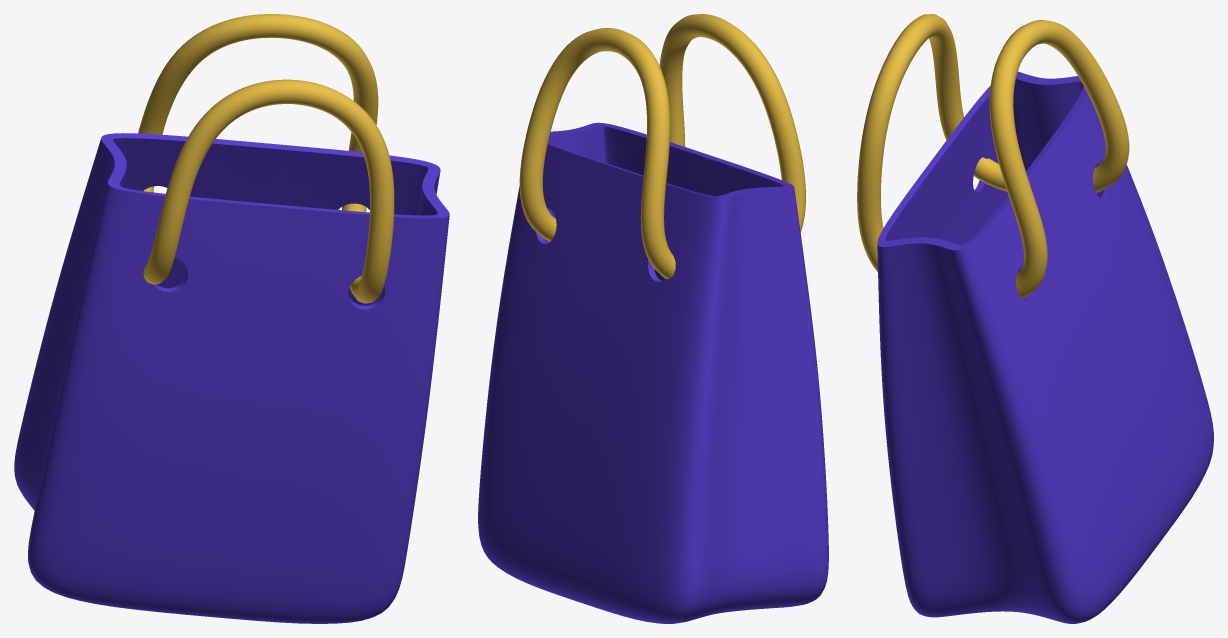
Rendered from carry-bag-3d-icon-158187028309.glb.
The picture shows the model from 3 angles, left to right: view 1: azimuth 30°, elevation 25°; view 2: azimuth 150°, elevation 25°; view 3: azimuth 270°, elevation 25°; orthographic projection. The views are drawn at different scales.
Visible parts, largest first — view 1: Bag, Handle; view 2: Bag, Handle; view 3: Bag, Handle.
Part boxes in pixels (left/top/right/bottom): Bag: left=14, top=133, right=449, bottom=623; Handle: left=138, top=14, right=394, bottom=303; Bag: left=478, top=122, right=828, bottom=623; Handle: left=519, top=14, right=805, bottom=278; Bag: left=877, top=71, right=1213, bottom=623; Handle: left=857, top=14, right=1129, bottom=298.
Bounding box in the file's own units: 1.38 × 2.11 × 1.21.
